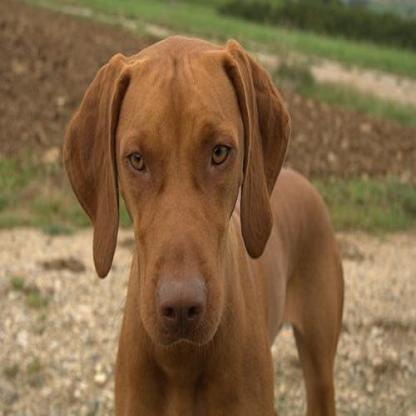vizsla: (61, 34, 344, 414)
